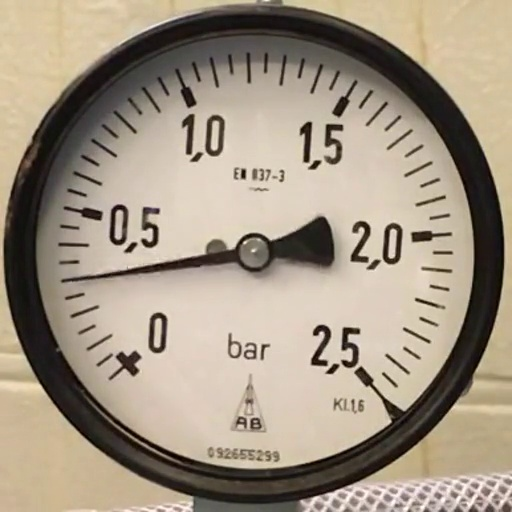base: (235, 233, 273, 272)
circle_plate: (44, 35, 474, 465)
maximum: (354, 365, 374, 387)
minimum: (115, 348, 142, 376)
number: (308, 323, 361, 374), (350, 220, 404, 270), (108, 203, 161, 251), (299, 120, 345, 171), (180, 112, 225, 161), (146, 310, 169, 356)
tip: (72, 275, 84, 283)
